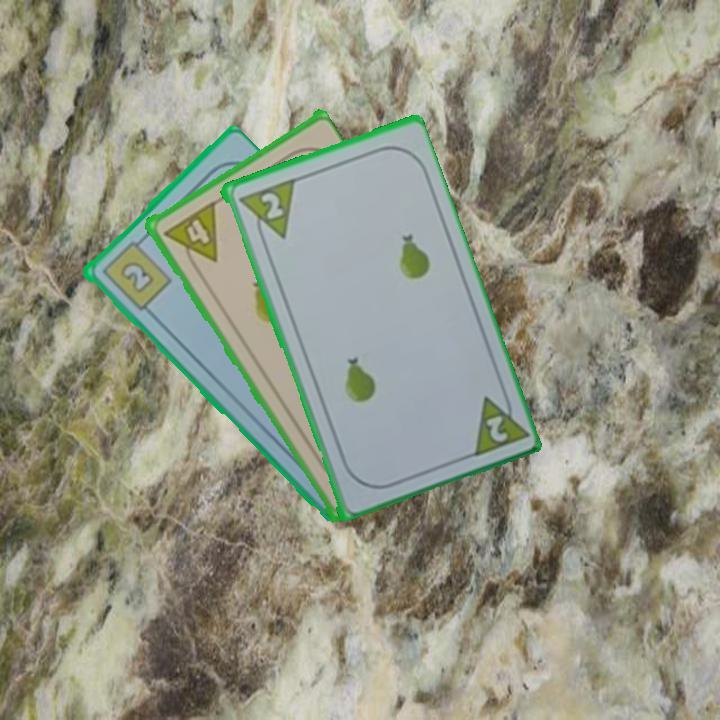2b: (97, 233, 174, 314)
2p: (465, 384, 529, 460), (256, 188, 286, 222)
4p: (159, 198, 221, 274)
